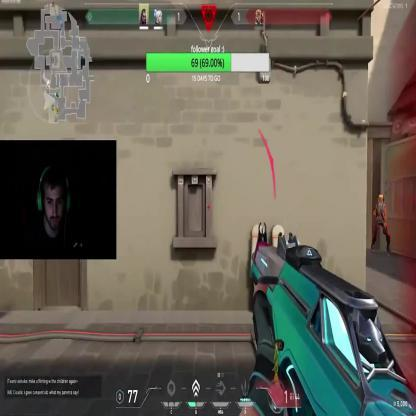enemy: (369, 188, 393, 258)
enemy_head: (378, 194, 384, 208)
